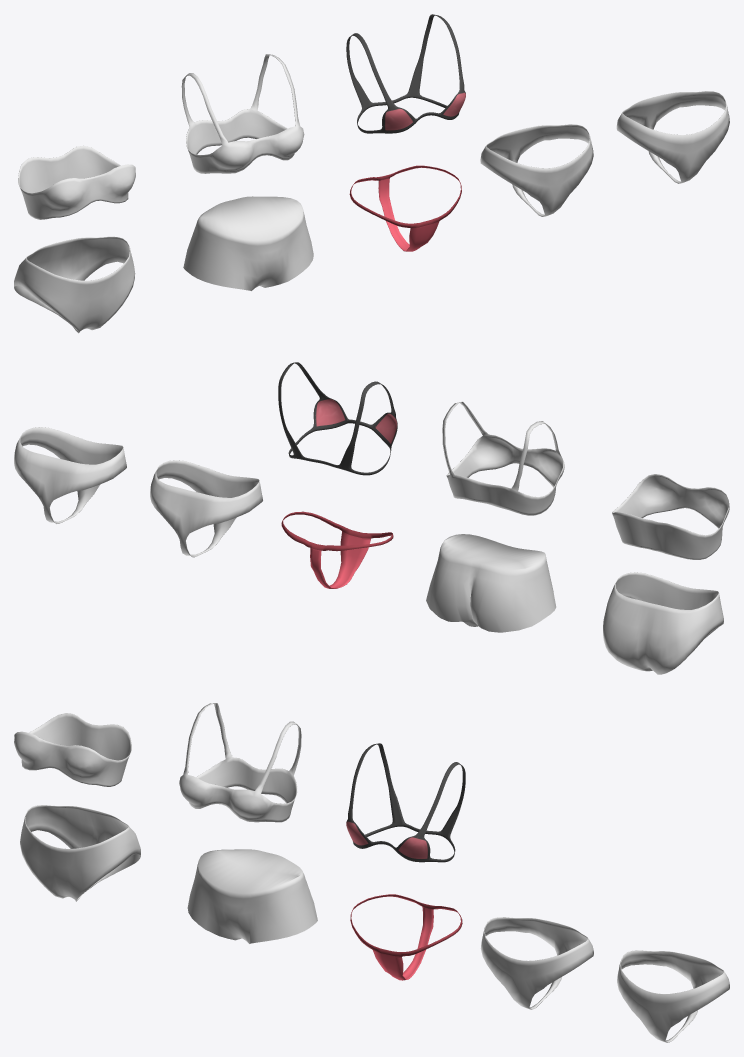
The model's file is F_UnderwearAllMeshes.fbx.
3 renders of one model, top to bottom at view 1: azimuth 30°, elevation 25°; view 2: azimuth 150°, elevation 25°; view 3: azimuth 330°, elevation 25°, orthographic.
Parts seen in each view (by area): view 1: BoyShorts, HightCut, PaddedBra, TubeBra, Thong, ThongSeamless, TriBra, GString; view 2: BoyShorts, HightCut, TubeBra, Thong, ThongSeamless, PaddedBra, TriBra, GString; view 3: BoyShorts, HightCut, PaddedBra, TubeBra, Thong, ThongSeamless, TriBra, GString.
Part boxes in pixels (x1,y1,x2,y2): BoyShorts: (183, 196, 313, 290); HightCut: (14, 236, 135, 333); PaddedBra: (181, 54, 304, 173); TubeBra: (18, 145, 135, 219); Thong: (480, 124, 593, 216); ThongSeamless: (616, 91, 729, 183); TriBra: (346, 14, 465, 133); GString: (349, 165, 461, 251); BoyShorts: (426, 534, 556, 632); HightCut: (603, 572, 723, 674); TubeBra: (612, 474, 729, 559); Thong: (150, 460, 262, 557); ThongSeamless: (14, 427, 126, 523); PaddedBra: (442, 401, 564, 515); TriBra: (278, 362, 397, 475); GString: (281, 511, 393, 588); BoyShorts: (187, 849, 317, 943); HightCut: (20, 805, 140, 901); PaddedBra: (179, 703, 301, 822); TubeBra: (14, 713, 131, 786); Thong: (480, 917, 593, 1009); ThongSeamless: (617, 950, 729, 1042); TriBra: (346, 743, 465, 862); GString: (350, 894, 462, 980).
Size of the model in its own units: 211 by 62.89 by 27.13.
